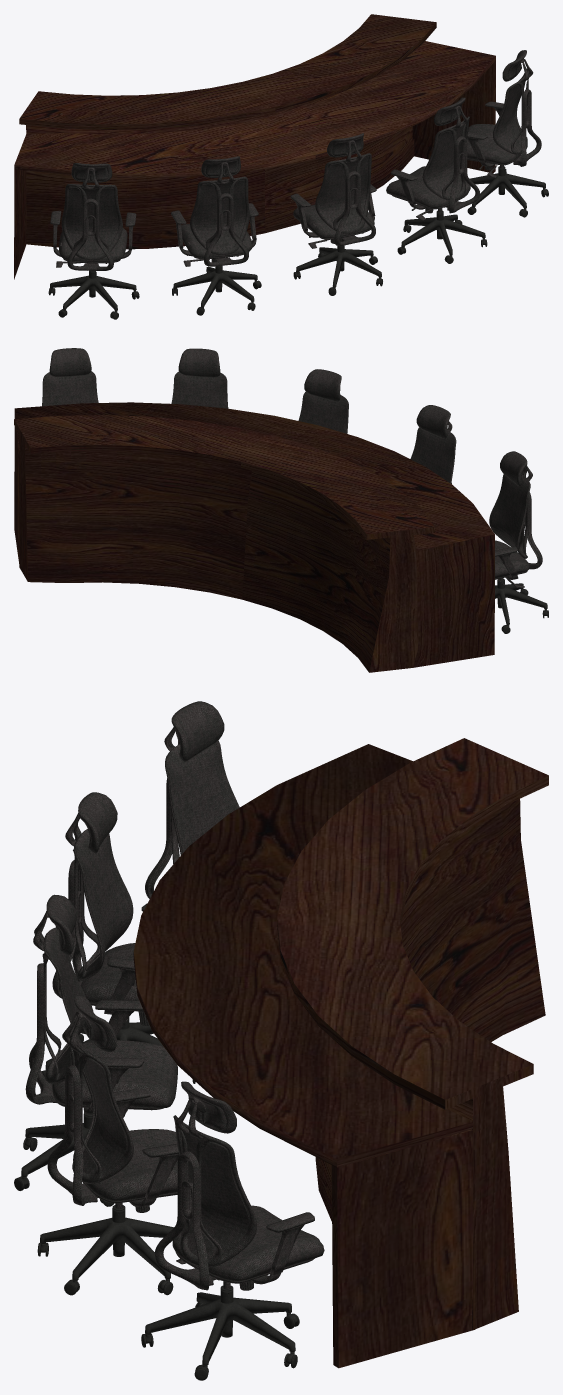
The model's file is study.glb.
3 renders of one model, top to bottom at view 1: azimuth 30°, elevation 25°; view 2: azimuth 150°, elevation 25°; view 3: azimuth 270°, elevation 25°, orthographic. The views are drawn at different scales.
Visible parts, largest first — view 1: Loft001_Desk_0.003, Loft001_Desk_0.001; view 2: Loft001_Desk_0.003, Loft001_Desk_0.001; view 3: Loft001_Desk_0.003, Loft001_Desk_0.001.
Part boxes in pixels (box(x1,y1,x2,y2)): Loft001_Desk_0.003: box(14, 14, 495, 279); Loft001_Desk_0.001: box(48, 50, 548, 319); Loft001_Desk_0.003: box(14, 402, 494, 672); Loft001_Desk_0.001: box(42, 348, 548, 633); Loft001_Desk_0.003: box(133, 738, 548, 1368); Loft001_Desk_0.001: box(14, 701, 324, 1380).
Size of the model in its own units: 3.92 by 1.13 by 2.06.
Materials: 5 (5 with a texture image).
